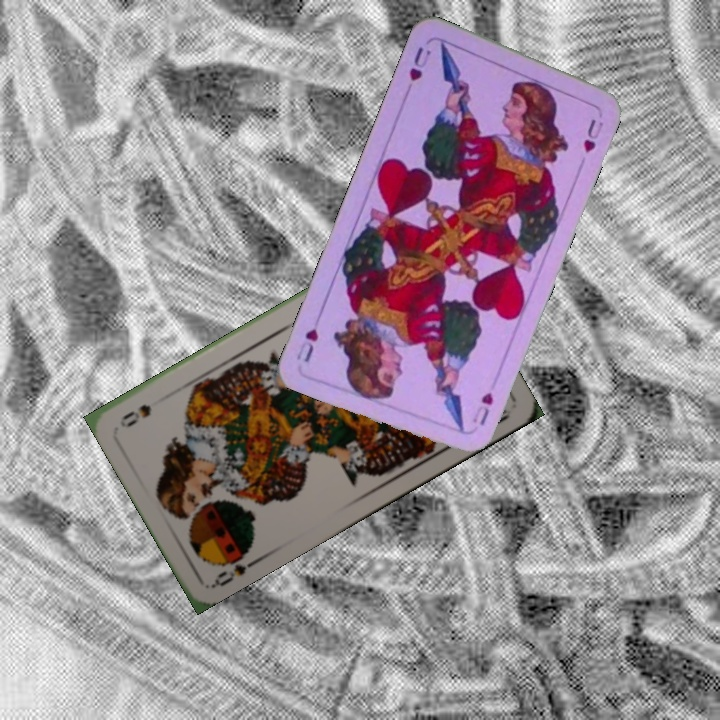HU: (404, 42, 433, 84), (468, 388, 496, 428)
SO: (209, 543, 263, 590)
